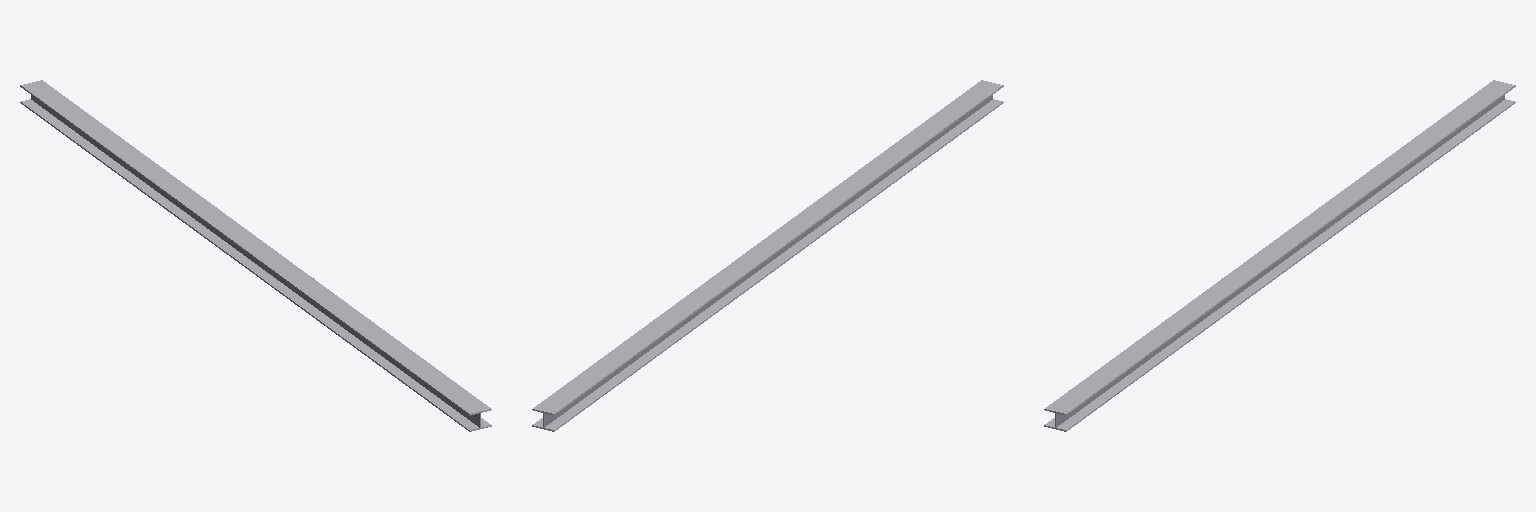
The robot description file, URDF, robot "h_bar":
<?xml version="1.0" ?>
<!-- =================================================================================== -->
<!-- |    This document was autogenerated by xacro from h_bar.xacro                    | -->
<!-- |    EDITING THIS FILE BY HAND IS NOT RECOMMENDED                                 | -->
<!-- =================================================================================== -->
<robot name="h_bar">
  <link name="world"/>
  <!-- Bottom leg (aligned with z-axis after rotation, below origin) -->
  <link name="hbar_bottom_leg">
    <visual>
      <origin rpy="0 1.57079633 0" xyz="0 0 0"/>
      <geometry>
        <!-- thickness x, profile width y, leg length along local z -->
        <box size="0.01 5.0 0.14"/>
      </geometry>
      <material name="hbar_material_bottom">
        <!-- Brushed steel-like gray -->
        <color rgba="0.75 0.75 0.78 1.0"/>
      </material>
    </visual>
    <collision>
      <origin rpy="0 1.57079633 0" xyz="0 0 0"/>
      <geometry>
        <box size="0.01 5.0 0.14"/>
      </geometry>
    </collision>
    <inertial>
      <origin rpy="0 0 0" xyz="0 0 0"/>
      <mass value="0.3333333333333333"/>
      <inertia ixx="0.6949888888888889" ixy="0.0" ixz="0.0" iyy="0.0005472222222222223" iyz="0.0" izz="0.6944472222222222"/>
    </inertial>
  </link>
  <!-- Top leg (aligned with z-axis after rotation, above origin) -->
  <link name="hbar_top_leg">
    <visual>
      <origin rpy="0 1.57079633 0" xyz="0 0 0"/>
      <geometry>
        <box size="0.01 5.0 0.14"/>
      </geometry>
      <material name="hbar_material_top">
        <!-- Brushed steel-like gray -->
        <color rgba="0.75 0.75 0.78 1.0"/>
      </material>
    </visual>
    <collision>
      <origin rpy="0 1.57079633 0" xyz="0 0 0"/>
      <geometry>
        <box size="0.01 5.0 0.14"/>
      </geometry>
    </collision>
    <inertial>
      <origin rpy="0 0 0" xyz="0 0 0"/>
      <mass value="0.3333333333333333"/>
      <inertia ixx="0.6949888888888889" ixy="0.0" ixz="0.0" iyy="0.0005472222222222223" iyz="0.0" izz="0.6944472222222222"/>
    </inertial>
  </link>
  <!-- Crossbar: vertical (aligned with z-axis) at the origin -->
  <link name="hbar_crossbar">
    <visual>
      <!-- Thickness in x,y, length in z -->
      <origin rpy="0 0 0" xyz="0 0 0"/>
      <geometry>
        <box size="0.01 5.0 0.1"/>
      </geometry>
      <material name="hbar_material_cross">
        <!-- Slightly darker steel for visual contrast -->
        <color rgba="0.65 0.65 0.7 1.0"/>
      </material>
    </visual>
    <collision>
      <origin rpy="0 0 0" xyz="0 0 0"/>
      <geometry>
        <box size="0.01 5.0 0.1"/>
      </geometry>
    </collision>
    <inertial>
      <origin rpy="0 0 0" xyz="0 0 0"/>
      <mass value="0.3333333333333333"/>
      <inertia ixx="0.6947222222222222" ixy="0.0" ixz="0.0" iyy="0.0002805555555555556" iyz="0.0" izz="0.6944472222222222"/>
    </inertial>
  </link>
  <!-- Fix crossbar to world; its center is at the macro pose -->
  <joint name="hbar_cross_fix" type="fixed">
    <parent link="world"/>
    <child link="hbar_crossbar"/>
    <origin rpy="0 0 0" xyz="0 0 0"/>
  </joint>
  <!-- Top leg: translated +L_leg/2 in x and +L_span/2 in z relative to crossbar -->
  <joint name="hbar_top_fix" type="fixed">
    <parent link="hbar_crossbar"/>
    <child link="hbar_top_leg"/>
    <origin rpy="0 0.0 0" xyz="0 0 0.05"/>
  </joint>
  <!-- Bottom leg: translated +L_leg/2 in x and -L_span/2 in z relative to crossbar -->
  <joint name="hbar_bottom_fix" type="fixed">
    <parent link="hbar_crossbar"/>
    <child link="hbar_bottom_leg"/>
    <origin rpy="0 0 0" xyz="0 0 -0.05"/>
  </joint>
</robot>

--- Facts derived from the render (not from the file) ---
The picture shows the robot from 3 angles, left to right: view 1: azimuth 30°, elevation 25°; view 2: azimuth 150°, elevation 25°; view 3: azimuth 330°, elevation 25°; orthographic projection.
Robot: h_bar — 4 links, 3 joints (3 fixed); root link world; default pose: every joint at zero.
Links seen in each view (by area): view 1: hbar_top_leg, hbar_bottom_leg, hbar_crossbar; view 2: hbar_top_leg, hbar_bottom_leg, hbar_crossbar; view 3: hbar_top_leg, hbar_bottom_leg, hbar_crossbar.
Link boxes in pixels (x1,y1,x2,y2): hbar_top_leg: (20, 80, 491, 415); hbar_bottom_leg: (20, 99, 491, 431); hbar_crossbar: (31, 95, 480, 427); hbar_top_leg: (532, 80, 1003, 415); hbar_bottom_leg: (532, 99, 1003, 431); hbar_crossbar: (543, 95, 992, 427); hbar_top_leg: (1044, 80, 1515, 415); hbar_bottom_leg: (1044, 99, 1515, 431); hbar_crossbar: (1055, 95, 1504, 427).
Bounding box of the posed robot: 0.14 × 5 × 0.11 m (x, y, z).
Geometry: primitives only (box / cylinder / sphere), no mesh files.
